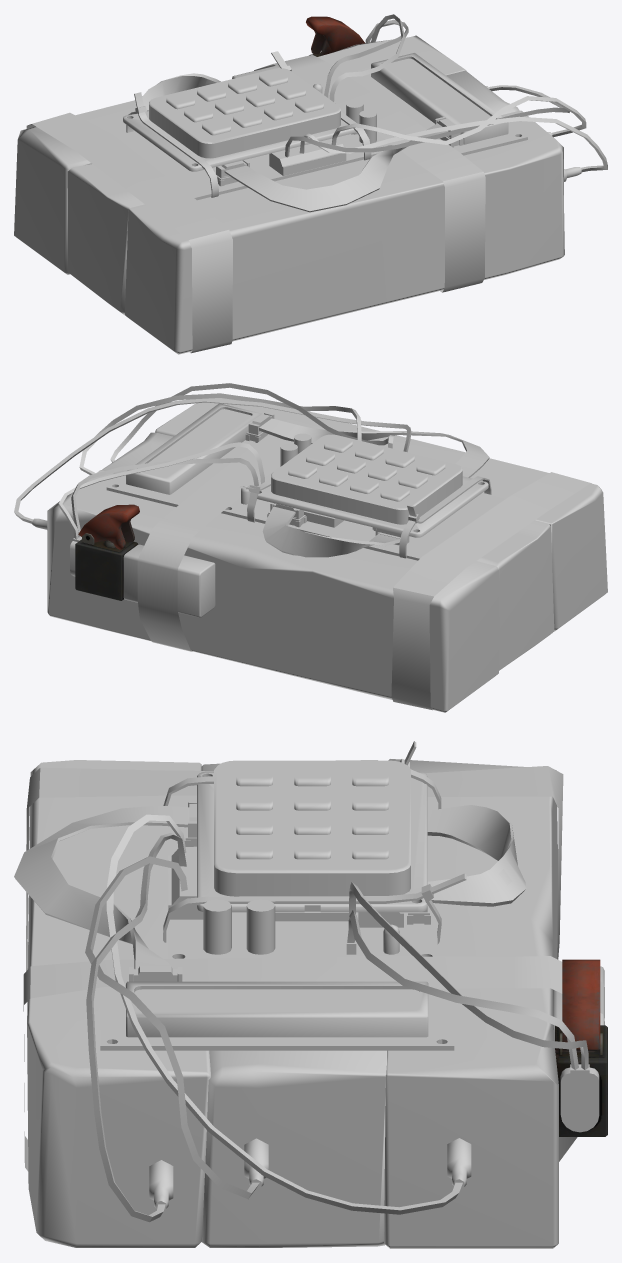
The model's file is w_ied_dropped.fbx.
3 views of the same model, one above another, from view 1: azimuth 30°, elevation 25°; view 2: azimuth 150°, elevation 25°; view 3: azimuth 270°, elevation 25° (orthographic). The views are drawn at different scales.
Parts seen in each view (by area): view 1: w_ied_dropped_w_eq_c4; view 2: w_ied_dropped_w_eq_c4; view 3: w_ied_dropped_w_eq_c4.
Boxes of the visible parts, x1,y1,x2,y2 form: w_ied_dropped_w_eq_c4: [14, 14, 607, 354]; w_ied_dropped_w_eq_c4: [14, 383, 607, 712]; w_ied_dropped_w_eq_c4: [14, 741, 607, 1248].
Bounding box in the file's own units: 10.81 × 3.52 × 7.16.
